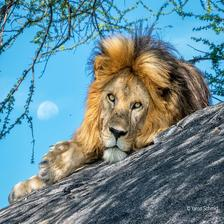Lion: (14, 23, 213, 168)
